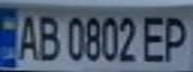0: (100, 11, 121, 63), (63, 11, 84, 62)
2: (118, 11, 142, 64)
8: (81, 11, 103, 62)
A: (12, 10, 42, 62)
B: (33, 10, 60, 62)
E: (139, 10, 172, 64)
P: (157, 11, 193, 63)
